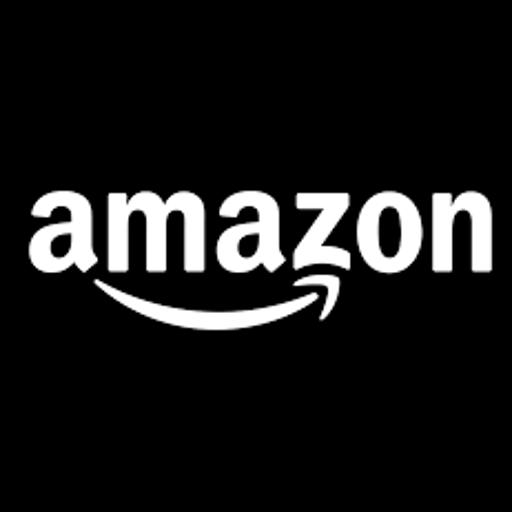Amazon: (0, 151, 512, 361)
